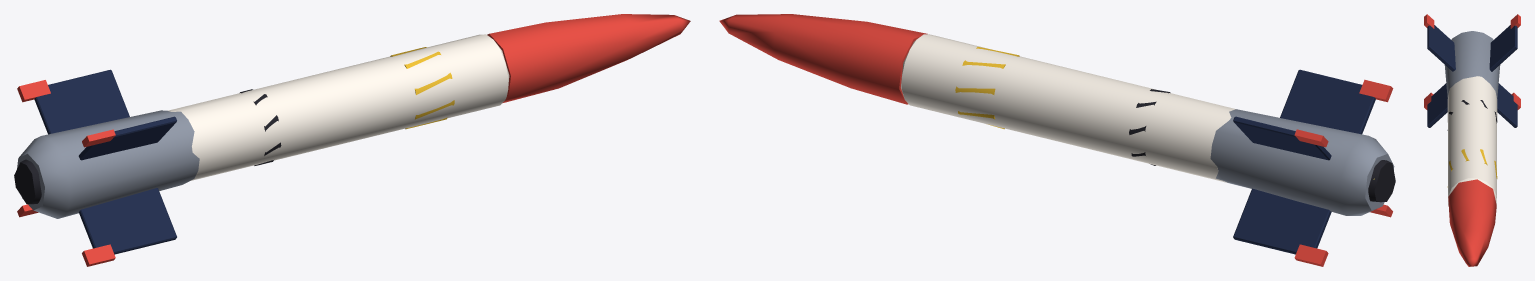
The model's file is icbm.glb.
3 views of the same model, side by side, from view 1: azimuth 30°, elevation 25°; view 2: azimuth 150°, elevation 25°; view 3: azimuth 270°, elevation 25° (orthographic). The views are drawn at different scales.
Visible parts, largest first — view 1: icbm.003; view 2: icbm.003; view 3: icbm.003.
Boxes of the visible parts, box(x1,y1,x2,y2) form: icbm.003: box(14, 14, 690, 266); icbm.003: box(719, 14, 1395, 266); icbm.003: box(1424, 14, 1520, 266).
Size of the model in its own units: 35.3 by 6.64 by 6.64.
Materials: 1 (1 with a texture image).
